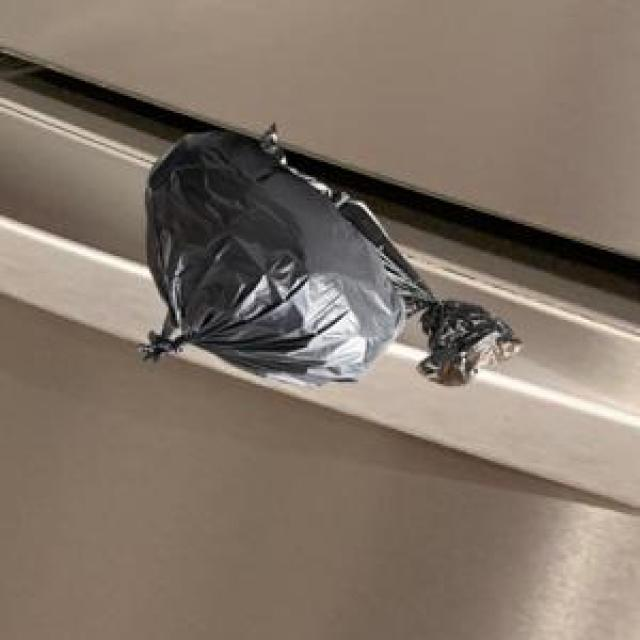Vinyl: (144, 131, 519, 384)
